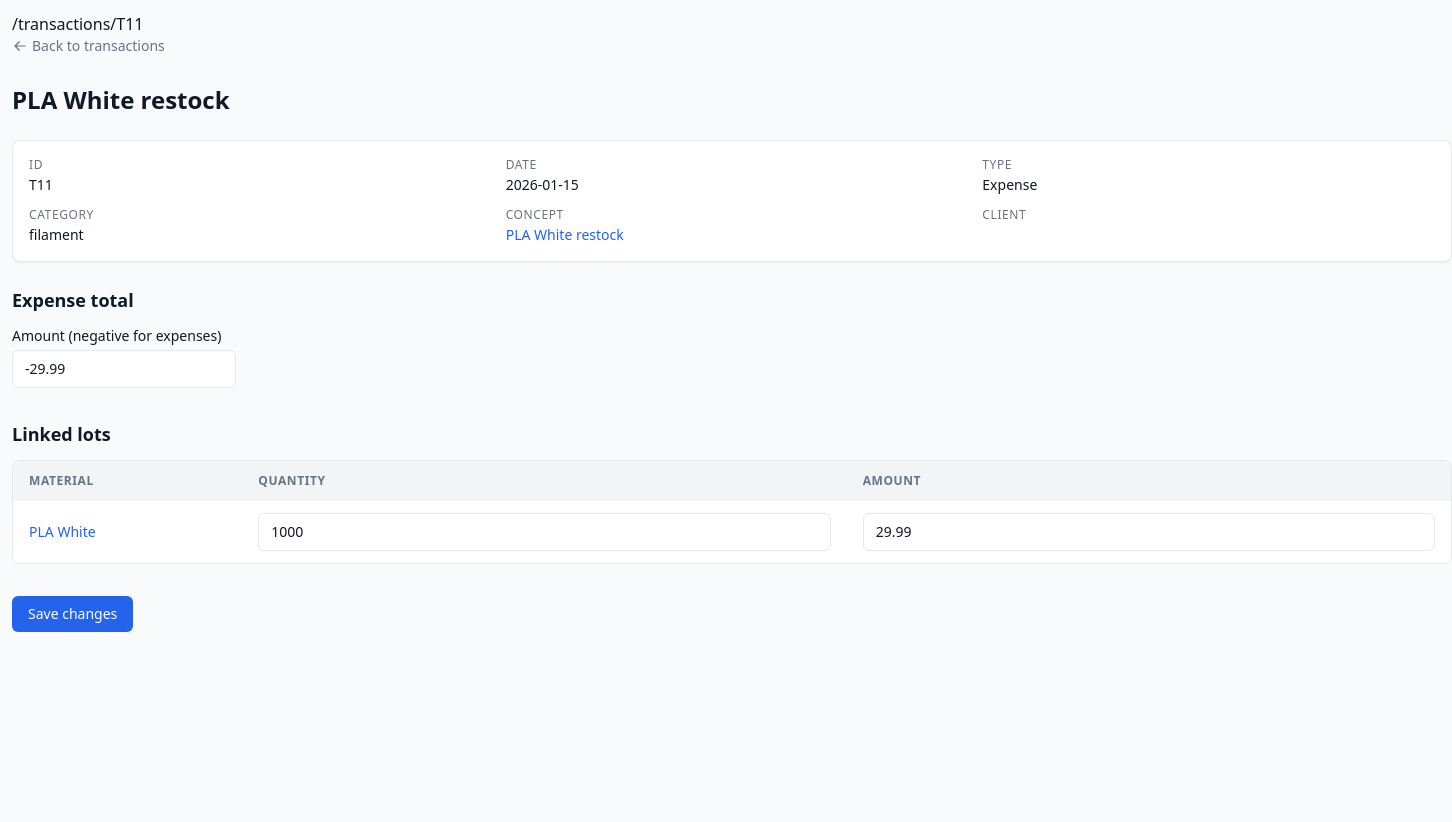
it: ExpenseTransactionDetailPage › saving › reports a rejected lot and stops before the rest
Step 1. Clear the number field with test id "expense-detail-lot-quantity-input-L1" → (544, 532), box [258,513,831,551]
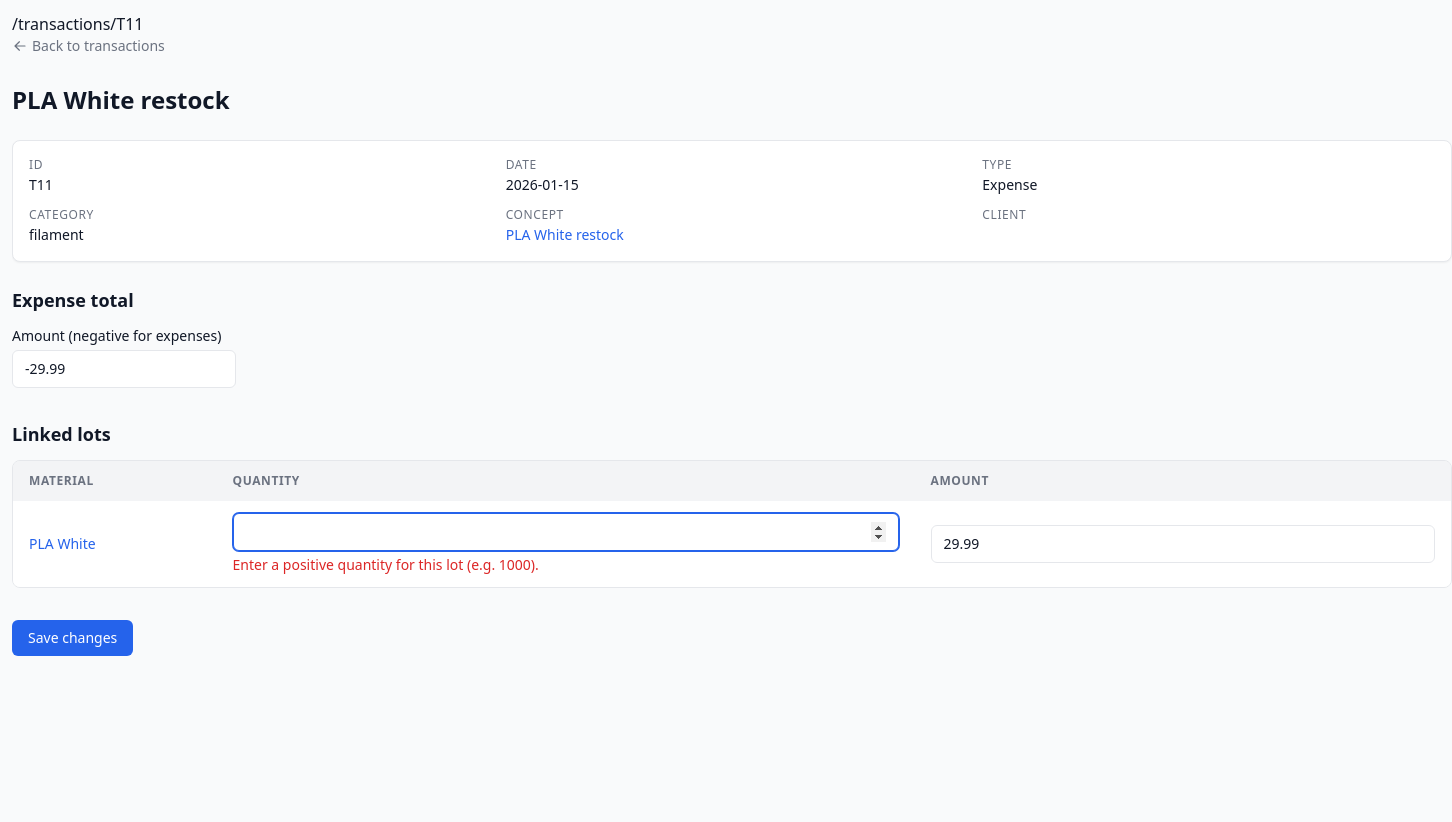
Step 2. Type "0" into the number field with test id "expense-detail-lot-quantity-input-L1" → (566, 532), box [232,513,898,551]
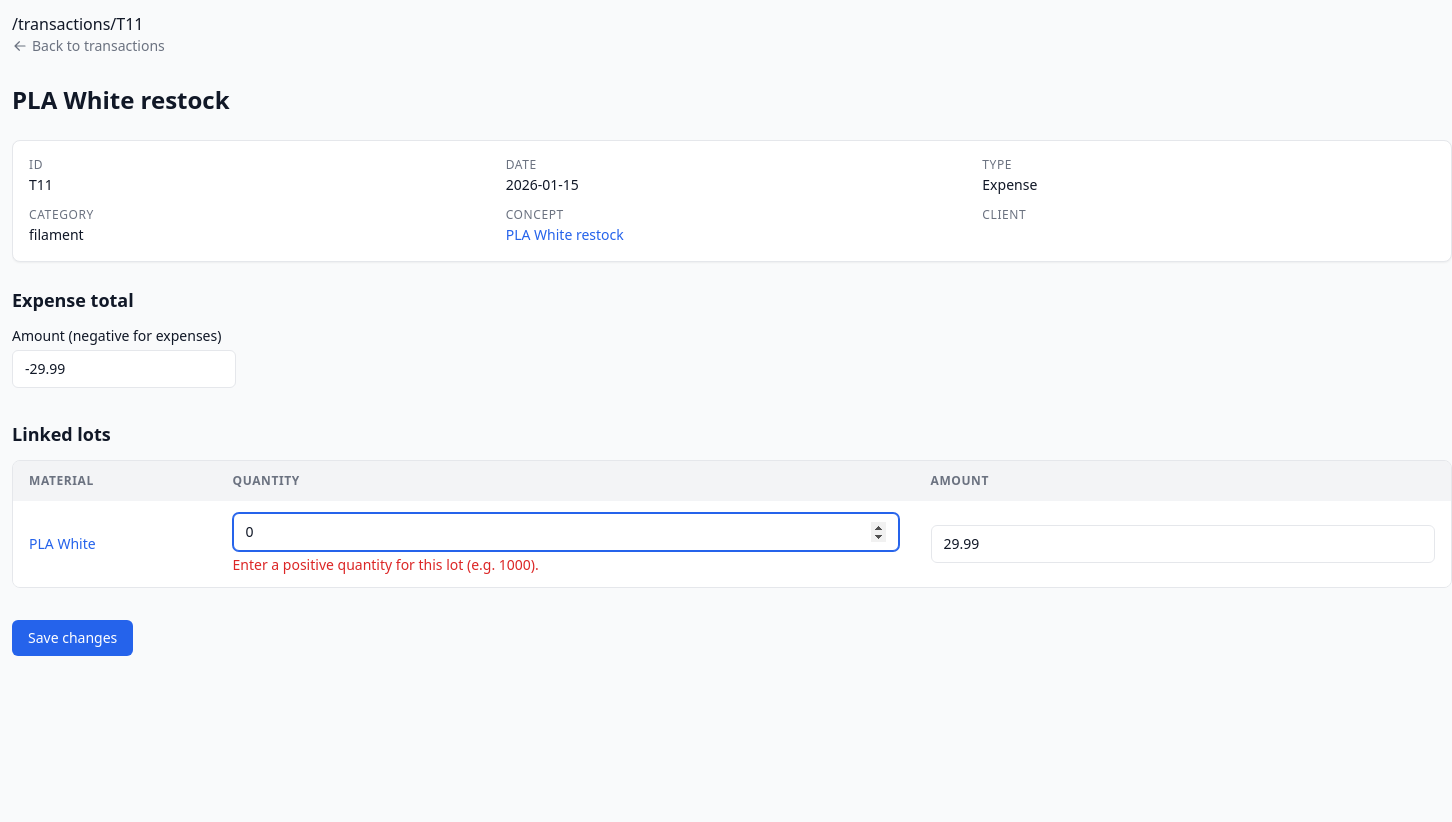
Step 3. Clear the number field with test id "expense-detail-lot-amount-input-L1" → (1183, 544), box [930,525,1435,563]
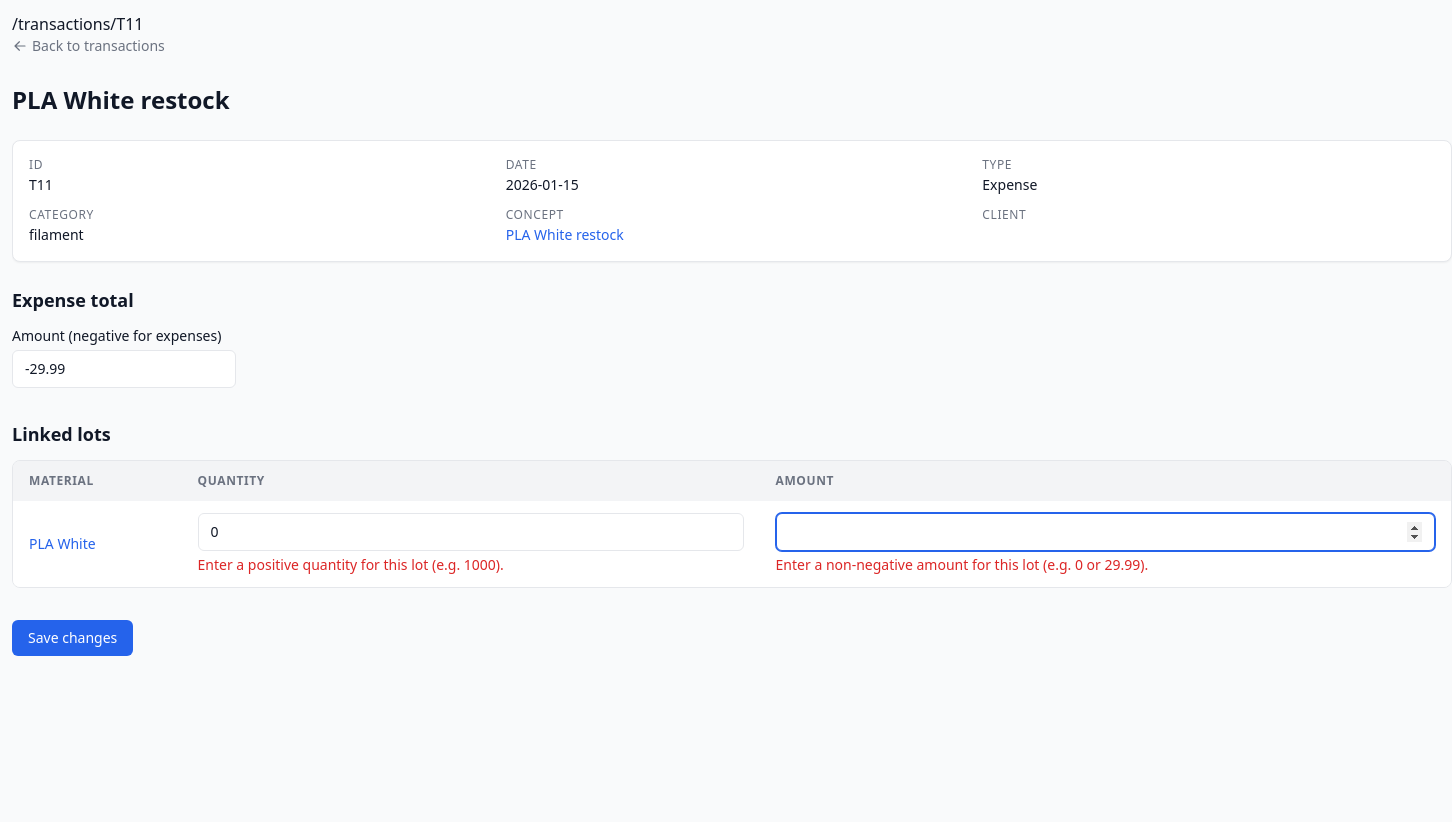
Step 4. Click the button with test id "expense-detail-save-changes" → (73, 638), box [12,620,133,656]
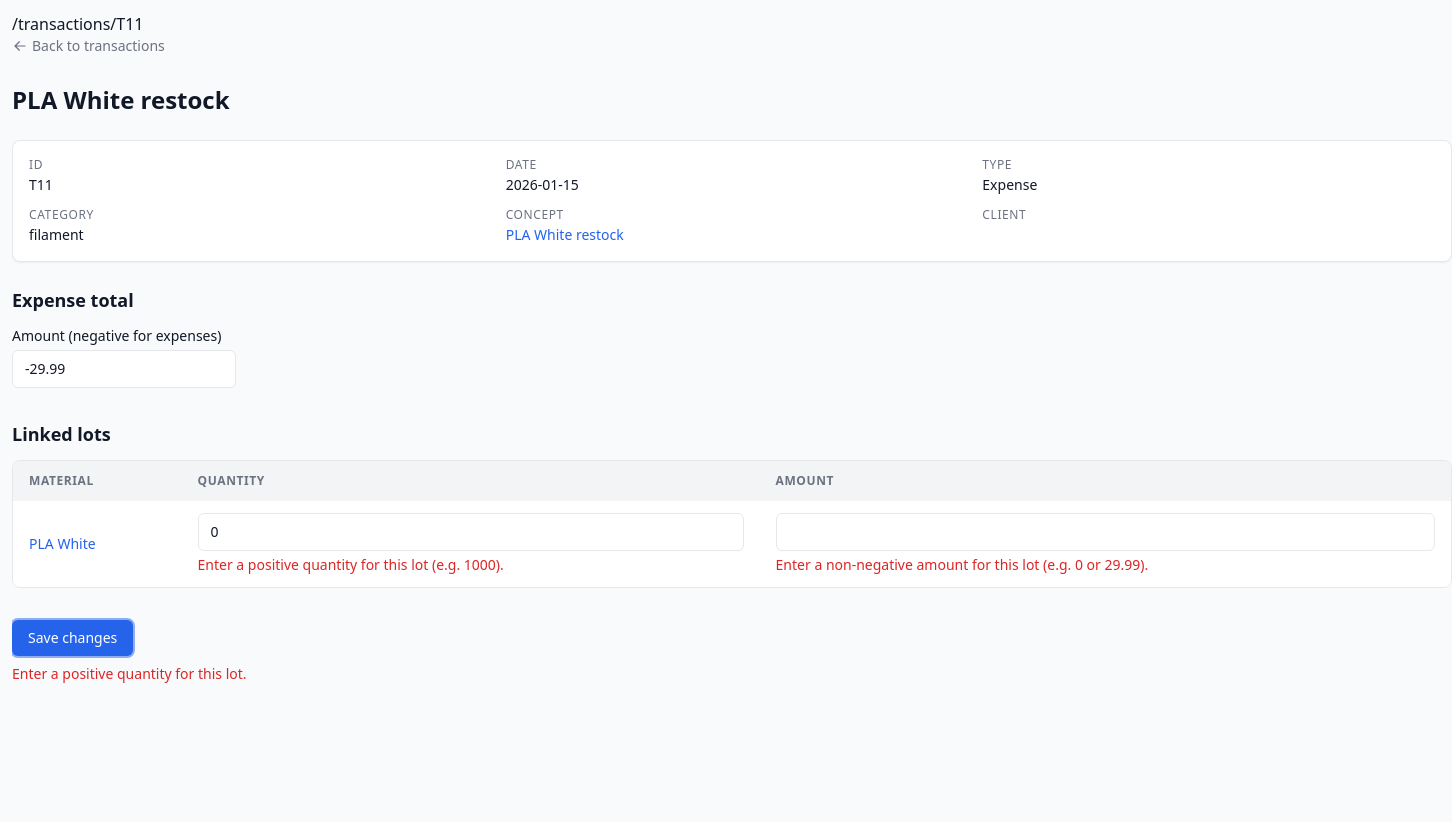
expect the message "Enter a positive quantity for this lot." is shown: met, box [12,664,246,683]
